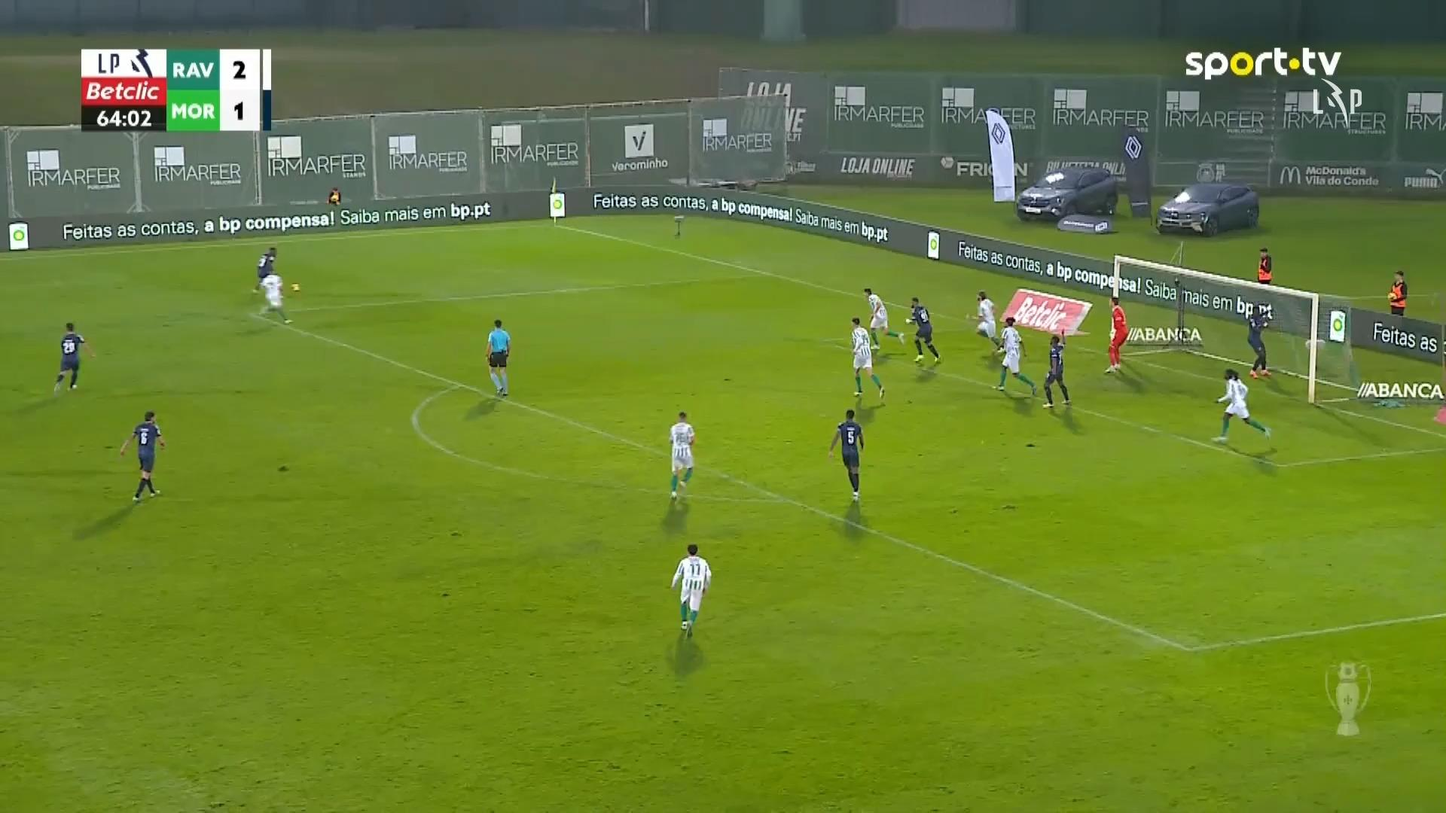ball: (291, 283, 299, 291)
goalkeeper: (1103, 294, 1127, 373)
player: (1212, 368, 1271, 444), (118, 410, 166, 501), (669, 543, 711, 638), (993, 315, 1037, 395), (827, 409, 865, 501), (52, 321, 96, 394), (850, 316, 885, 400), (862, 287, 905, 351), (668, 410, 695, 499), (1041, 330, 1072, 407), (965, 289, 1002, 353), (905, 296, 940, 362), (1245, 300, 1274, 379), (257, 271, 292, 324), (252, 246, 276, 293)
referee: (484, 318, 511, 397)
